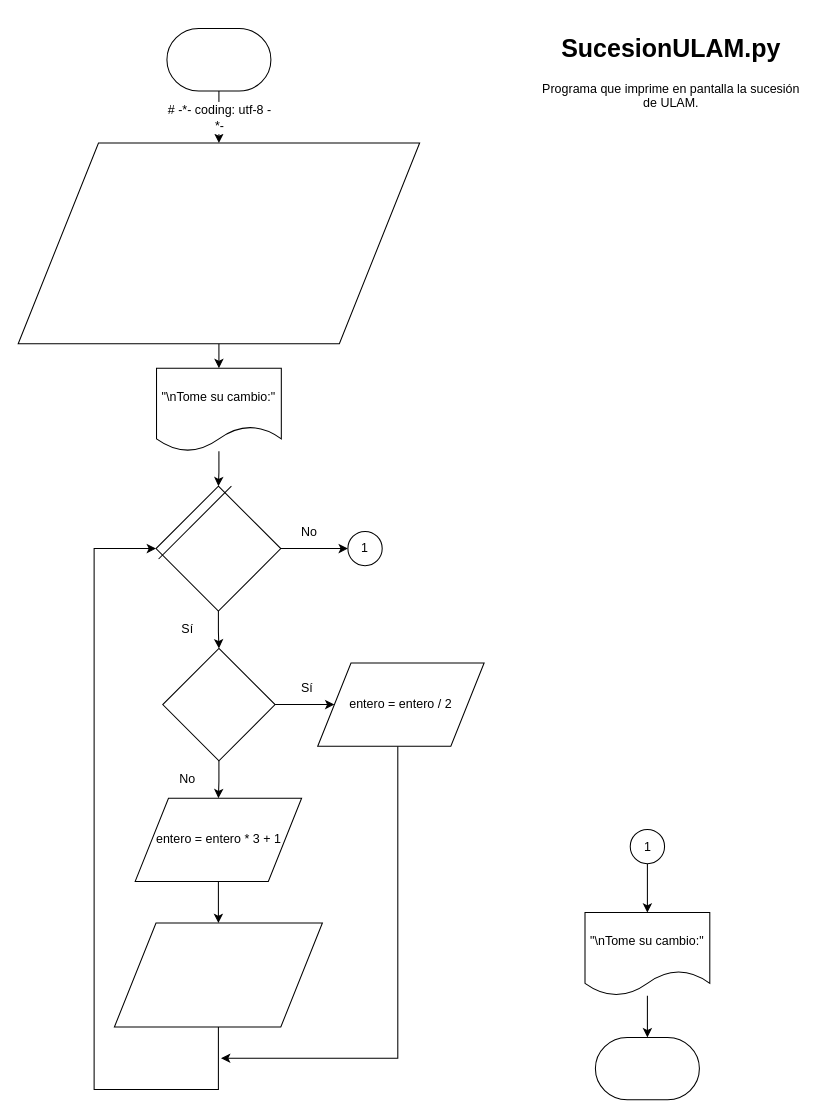
Image size: 830x1118. Some labels were removed from this diagram. Each missing label, with the centre of its shape:
entero % 2 == 0: [218,704]
entero = int(input("\n Dame un número entero positivo\n>> ")) m = "": [218,243]
m += str(int(entero) + " ": [217,974]
sobrante != 0: [218,548]
